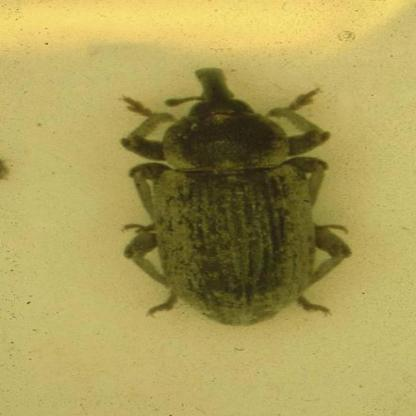rice-bug: (119, 66, 346, 326)
